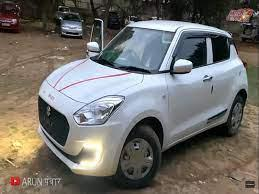Hatchback: (34, 17, 252, 188), (56, 9, 84, 37), (0, 2, 22, 33)
